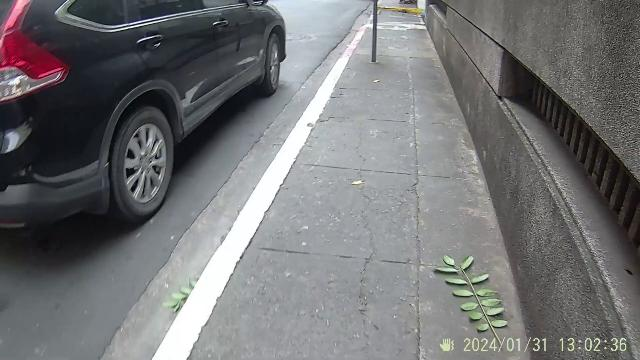car: (0, 0, 292, 240)
utility_post: (362, 2, 386, 68)
